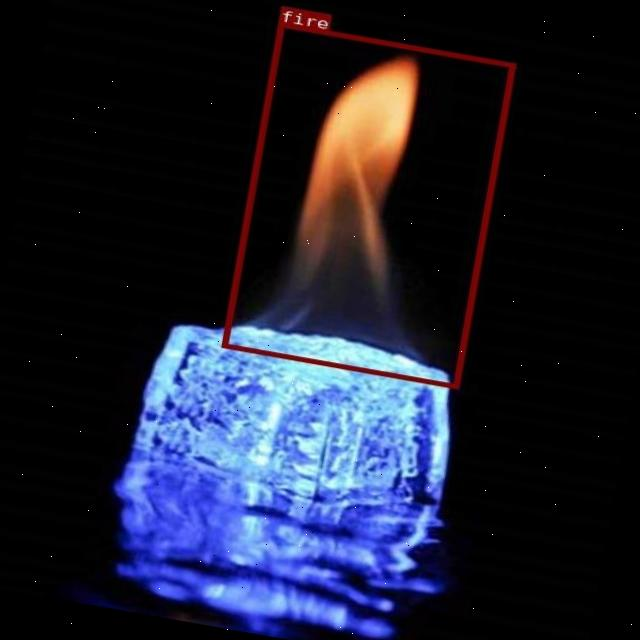fire: (220, 21, 515, 388)
